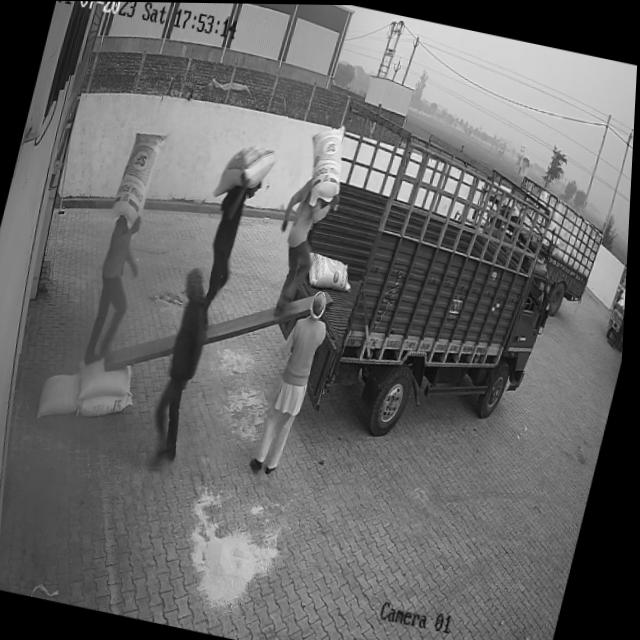sack: (111, 128, 167, 230), (297, 118, 357, 210), (214, 139, 279, 207), (80, 355, 139, 405), (39, 368, 89, 423), (305, 250, 361, 294), (82, 383, 139, 424)
